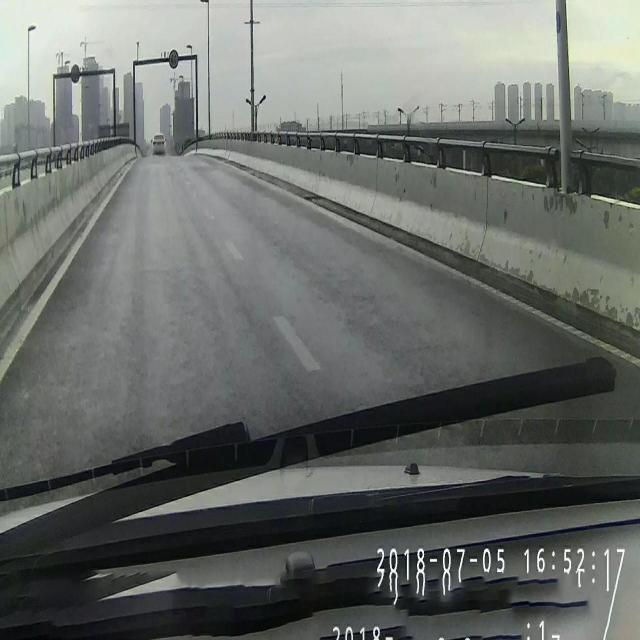car: (150, 128, 167, 154)
